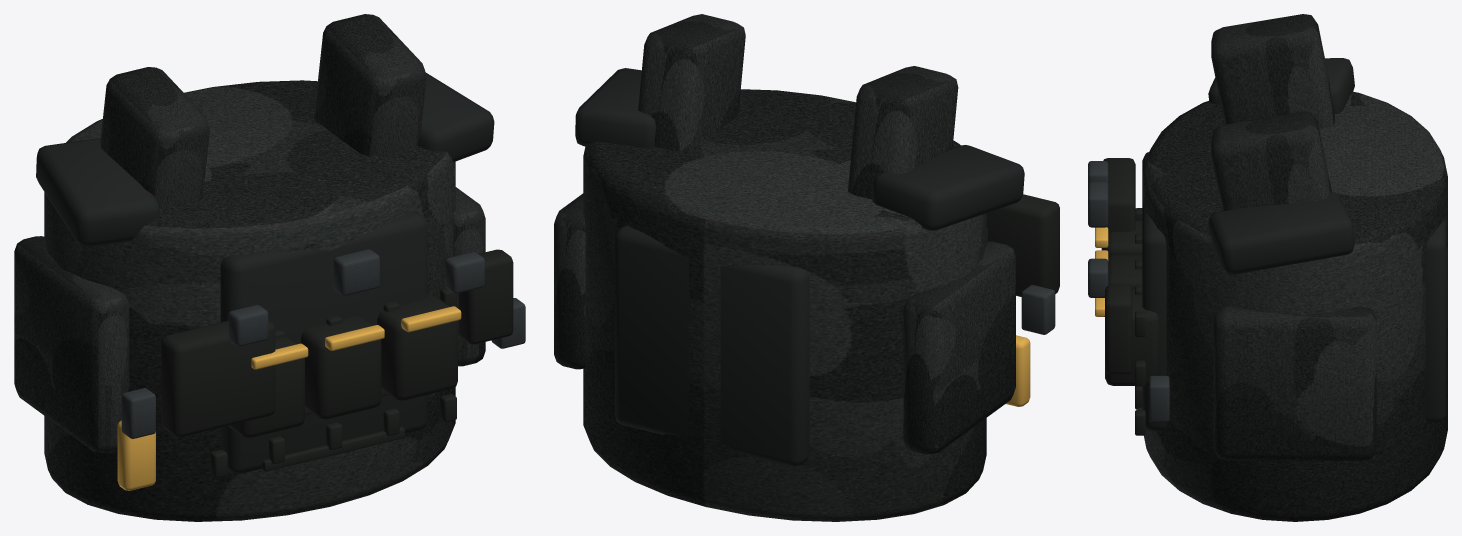
Rendered from gear_armor_fort.glb.
3 renders of one model, left to right at view 1: azimuth 30°, elevation 25°; view 2: azimuth 150°, elevation 25°; view 3: azimuth 270°, elevation 25°, orthographic. The views are drawn at different scales.
Parts seen in each view (by area): view 1: Gear; view 2: Gear; view 3: Gear.
Part boxes in pixels (<box>): Gear: <box>14,14,525,521</box>; Gear: <box>554,14,1059,521</box>; Gear: <box>1088,14,1447,521</box>.
Size of the model in its own units: 0.6518 by 0.6039 by 0.5297.
Materials: 5 (2 with a texture image).
